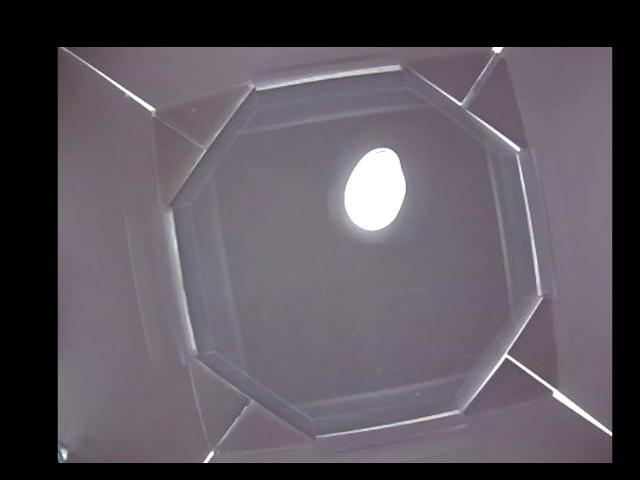Pebble: (345, 148, 405, 234)
